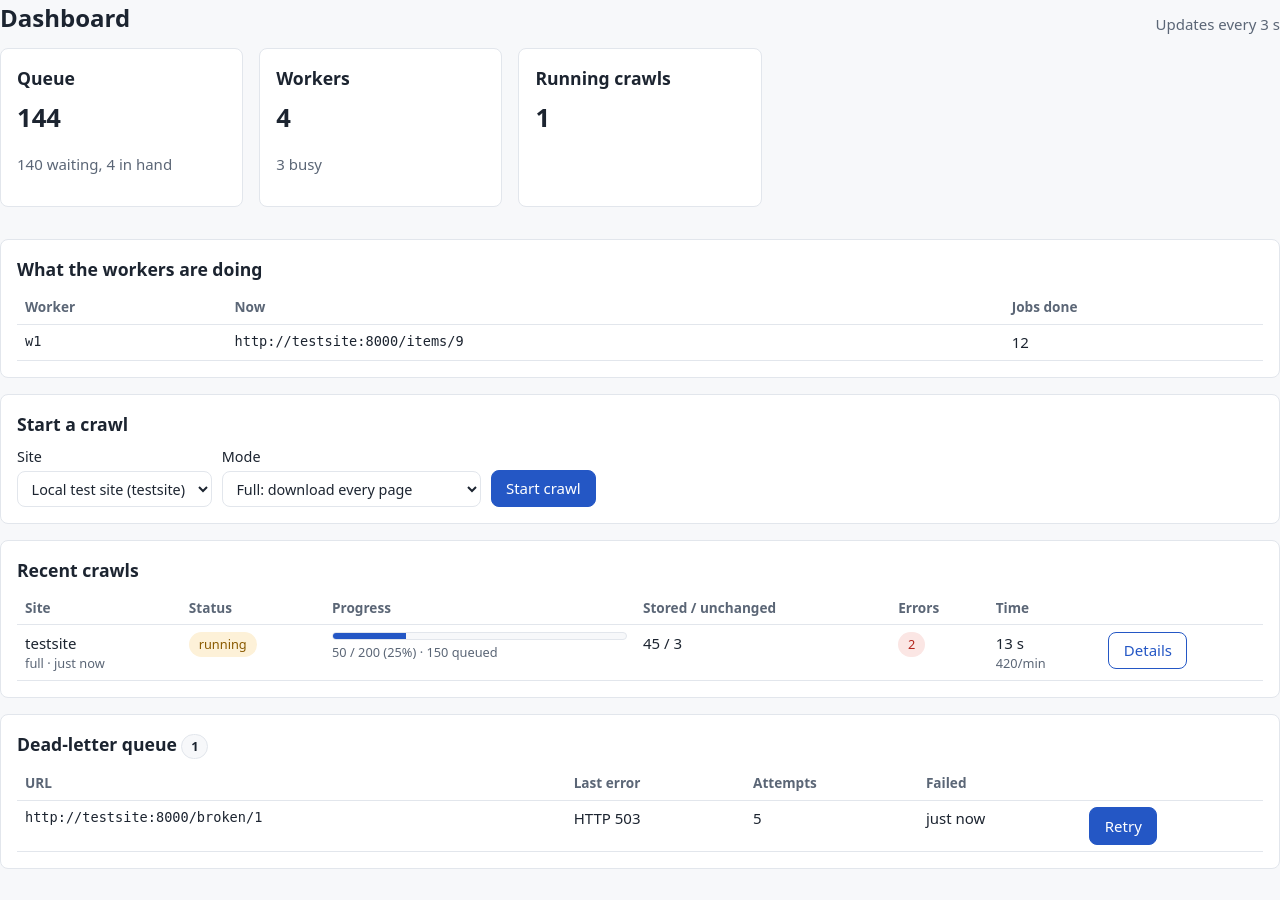
it: Dashboard › shows the API's reason when starting a crawl fails
The width and height of the screenshot is (1280, 900).
Click the button "Start crawl": [543, 488] box top-left (491, 470), bottom-right (596, 507)
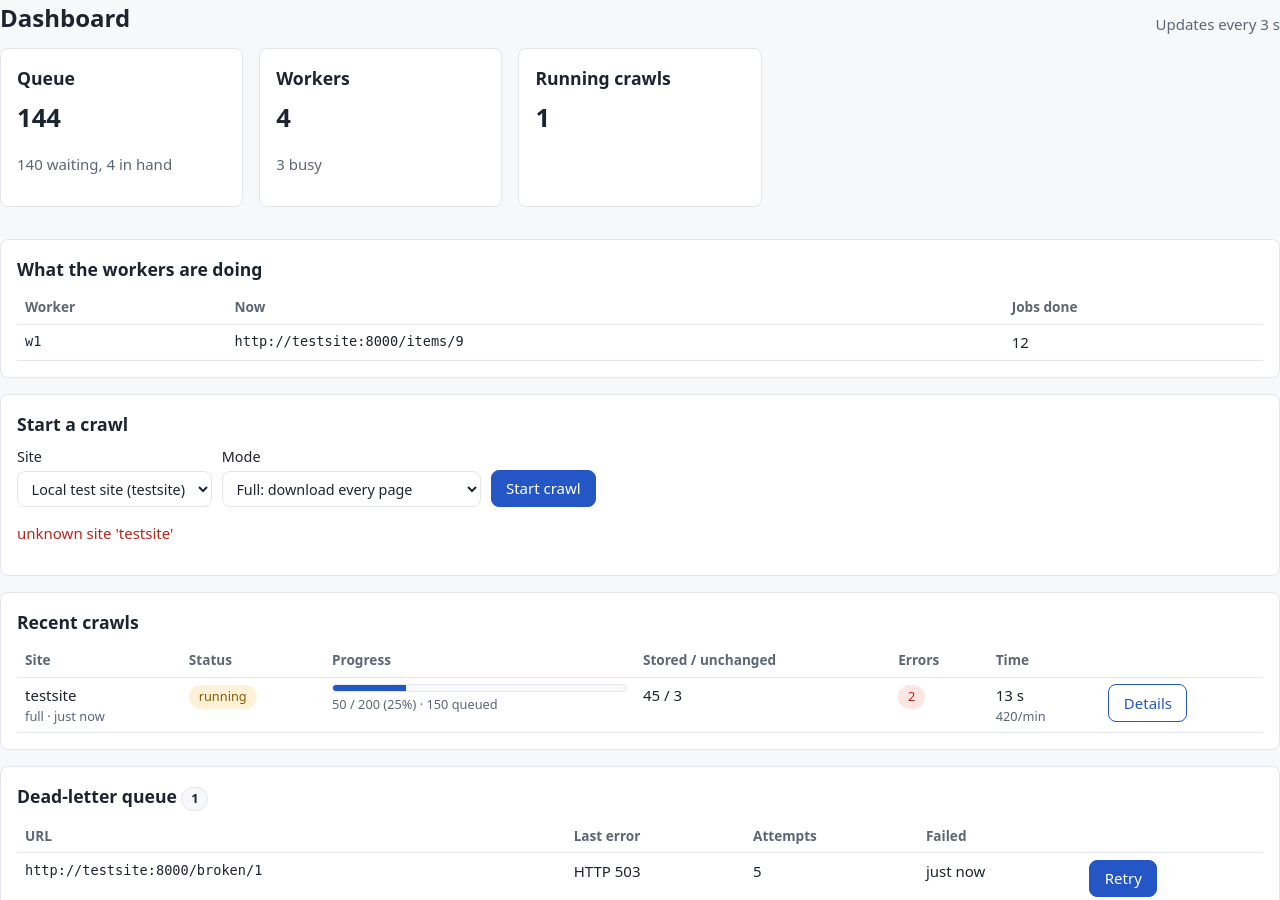
Now the message reads "unknown site 'testsite'", box top-left (17, 523), bottom-right (173, 543)
